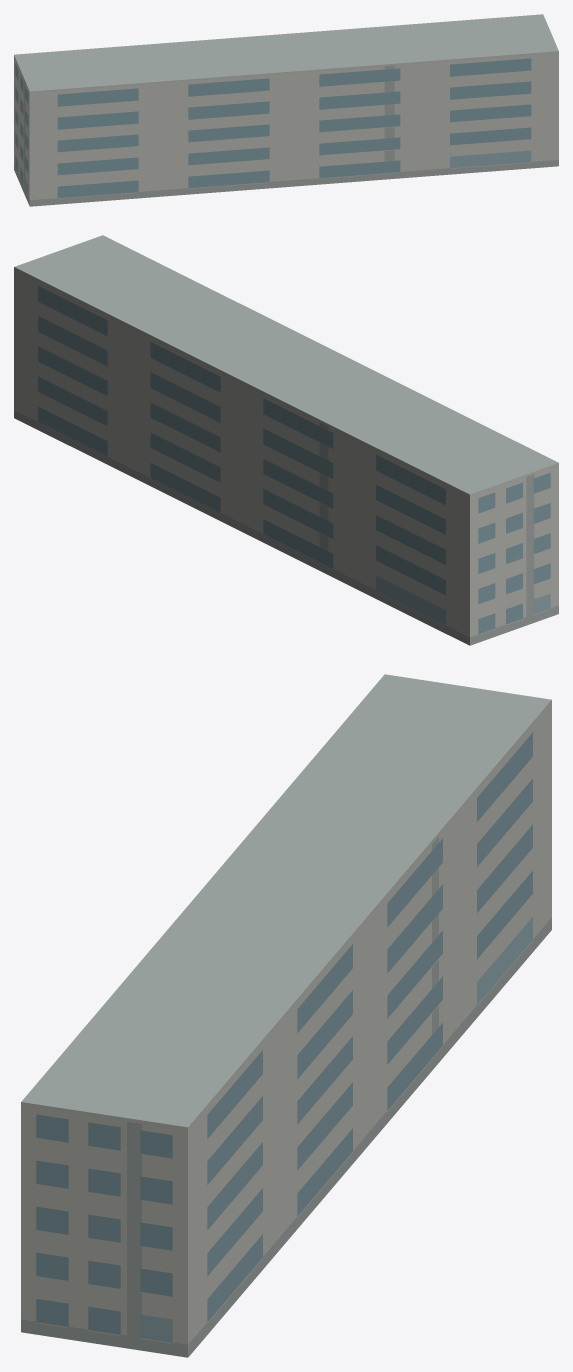
The model's file is residential-06051335-aa2f-46b4-bfa6-779396c15414.glb.
3 views of the same model, one above another, from view 1: azimuth 30°, elevation 25°; view 2: azimuth 150°, elevation 25°; view 3: azimuth 270°, elevation 25° (orthographic). The views are drawn at different scales.
Parts seen in each view (by area): view 1: residential-06051335-aa2f-46b4-bfa6-779396c15414.tmp; view 2: residential-06051335-aa2f-46b4-bfa6-779396c15414.tmp; view 3: residential-06051335-aa2f-46b4-bfa6-779396c15414.tmp.
Boxes of the visible parts, bbox=[...] form: residential-06051335-aa2f-46b4-bfa6-779396c15414.tmp: bbox=[14, 14, 558, 206]; residential-06051335-aa2f-46b4-bfa6-779396c15414.tmp: bbox=[14, 235, 558, 645]; residential-06051335-aa2f-46b4-bfa6-779396c15414.tmp: bbox=[21, 674, 551, 1357].
Size of the model in its own units: 64.36 by 15.25 by 31.86.
